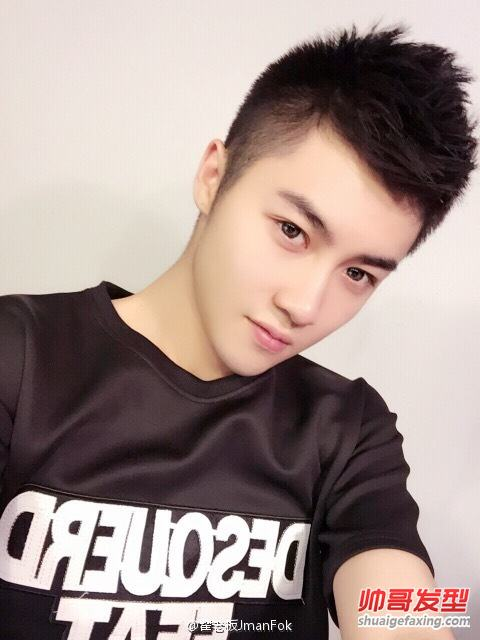person: (100, 25, 474, 427)
